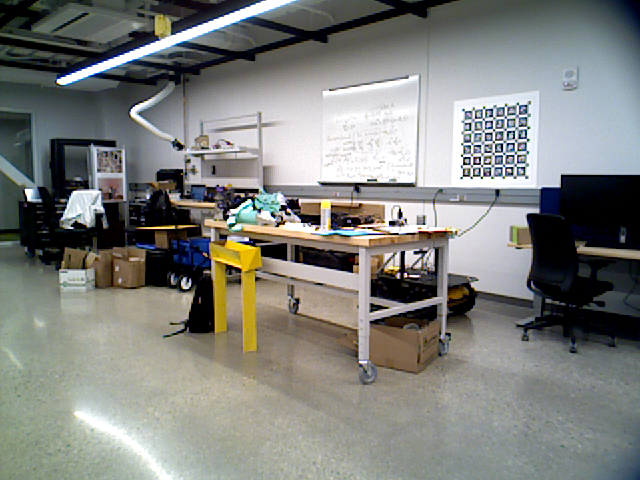painting4: (454, 93, 535, 187)
